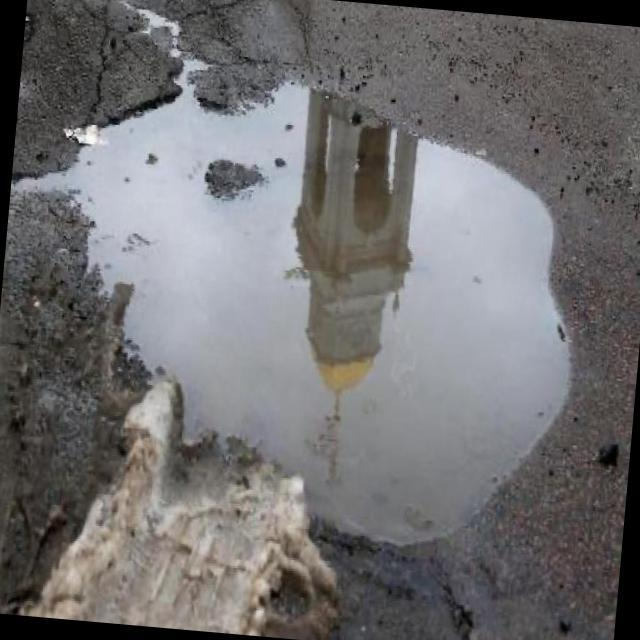Pothole: (39, 81, 568, 542)
